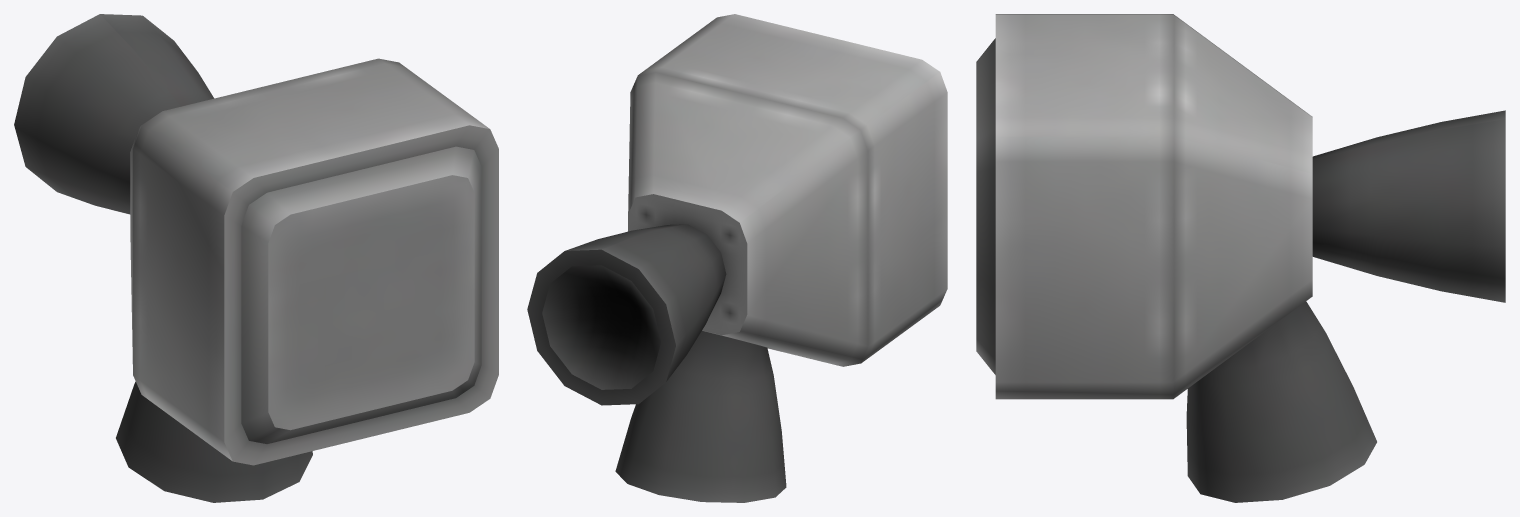
Rendered from Tantares_RCS_4_E.obj.
3 views of the same model, side by side, from view 1: azimuth 30°, elevation 25°; view 2: azimuth 150°, elevation 25°; view 3: azimuth 270°, elevation 25° (orthographic). The views are drawn at different scales.
Parts seen in each view (by area): view 1: Tantares_RCS_4_E; view 2: Tantares_RCS_4_E; view 3: Tantares_RCS_4_E.
Boxes of the visible parts, box(x1,y1,x2,y2) form: Tantares_RCS_4_E: box(14, 14, 498, 502); Tantares_RCS_4_E: box(527, 14, 947, 502); Tantares_RCS_4_E: box(976, 14, 1505, 502).
Size of the model in its own units: 0.1 by 0.1461 by 0.1712.
